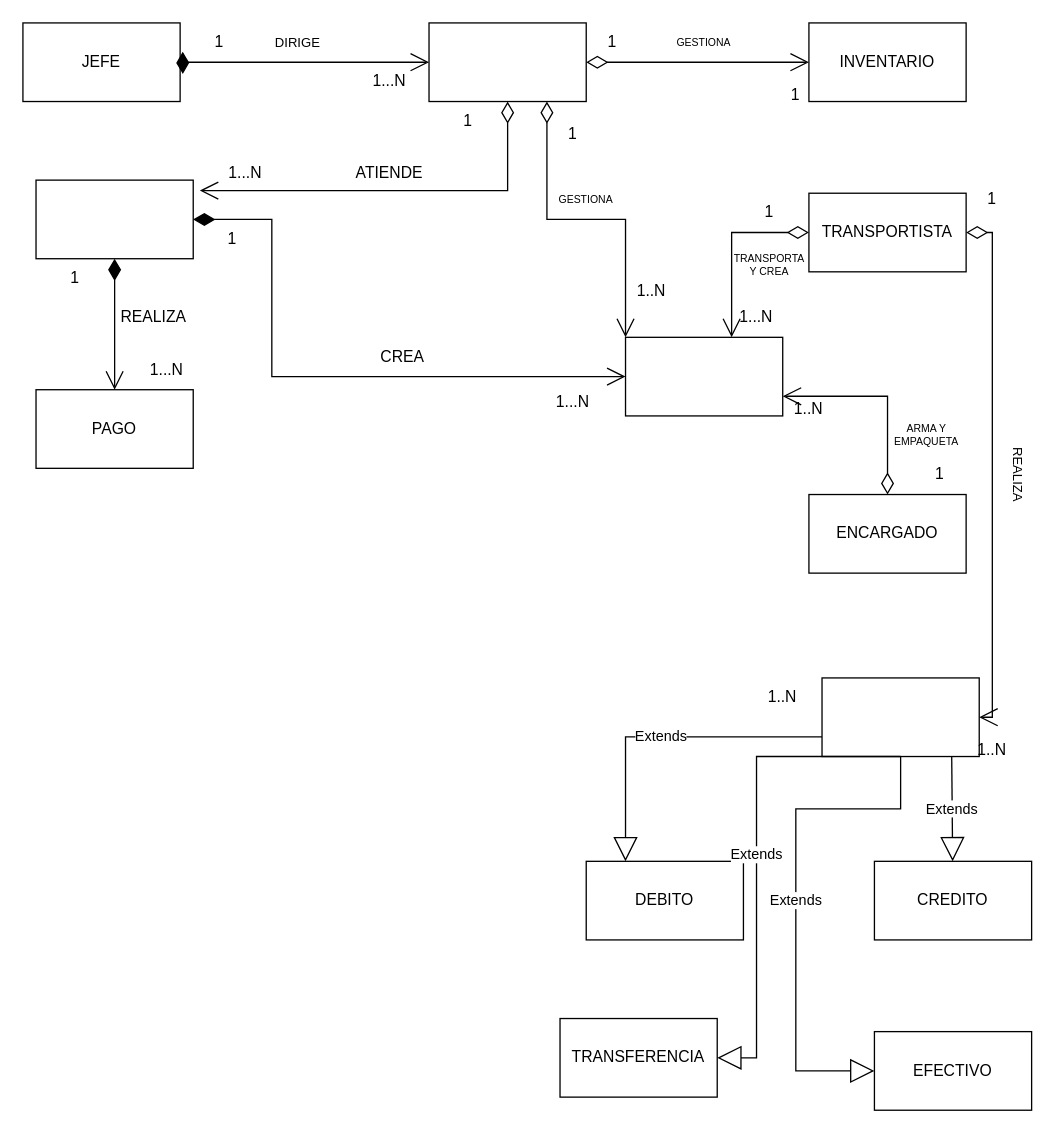
This 1061x1133 diagram has some shape labels left out. Each missing label, with the centre of its shape:
ADMIN: pixel 507 62
CLIENTE: pixel 114 219
COBRO: pixel 900 717
PEDIDOS: pixel 703 376
